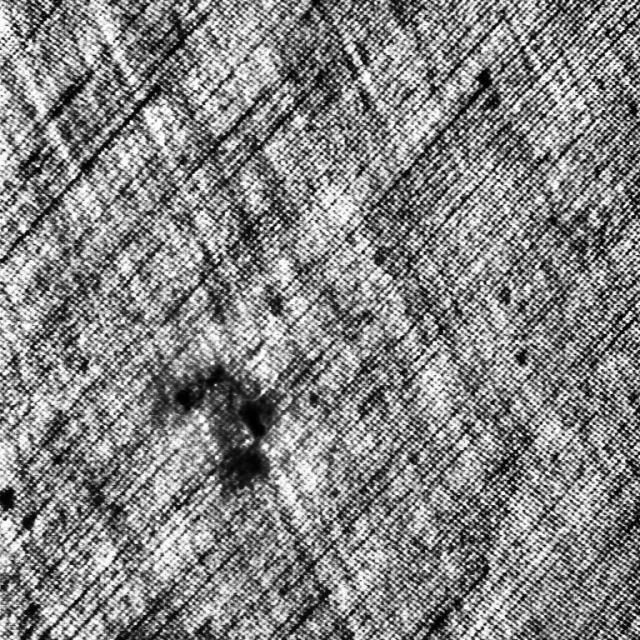gray stitch: (166, 329, 292, 521)
